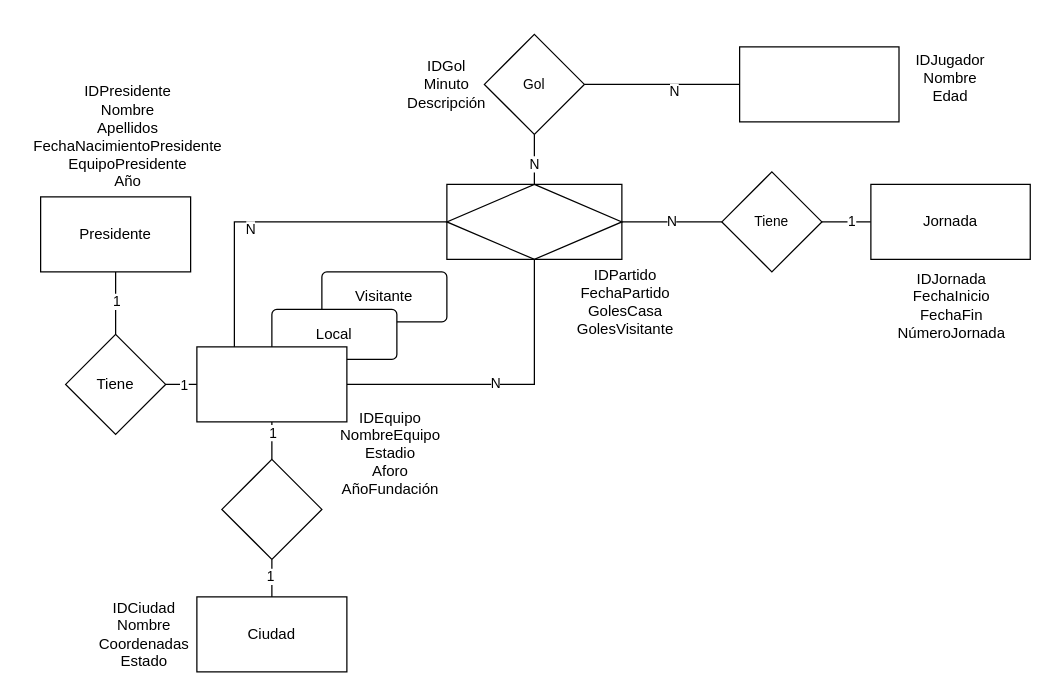
The diagram is 1055 pixels wide and 694 high, and some of its shapes have lost their labels. The box of each missing label's shape, as (x1, y1, x2, y2) in pixels:
Equipo: (196, 346, 347, 422)
Jugador: (738, 46, 899, 122)
Partido: (446, 183, 622, 259)
Pertenece: (221, 458, 322, 559)
